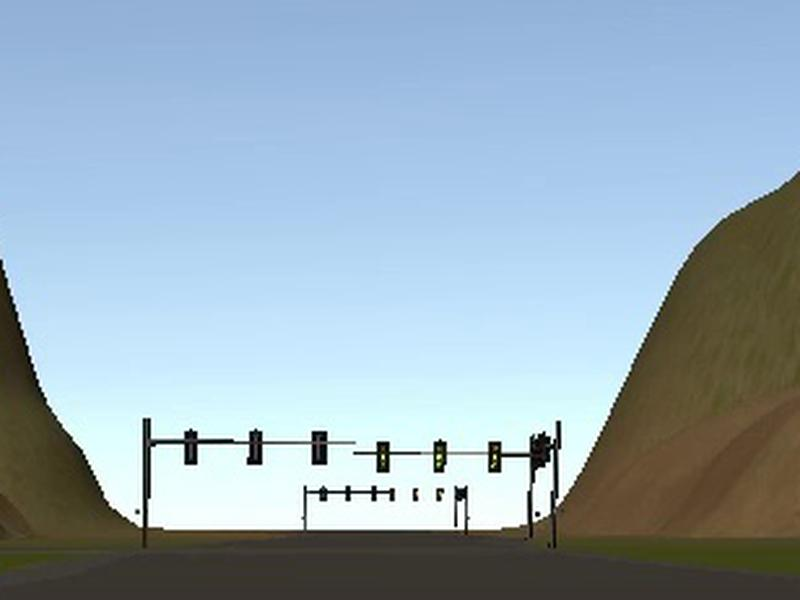Yellow: (377, 442, 390, 474), (434, 442, 447, 474), (489, 441, 502, 473)
